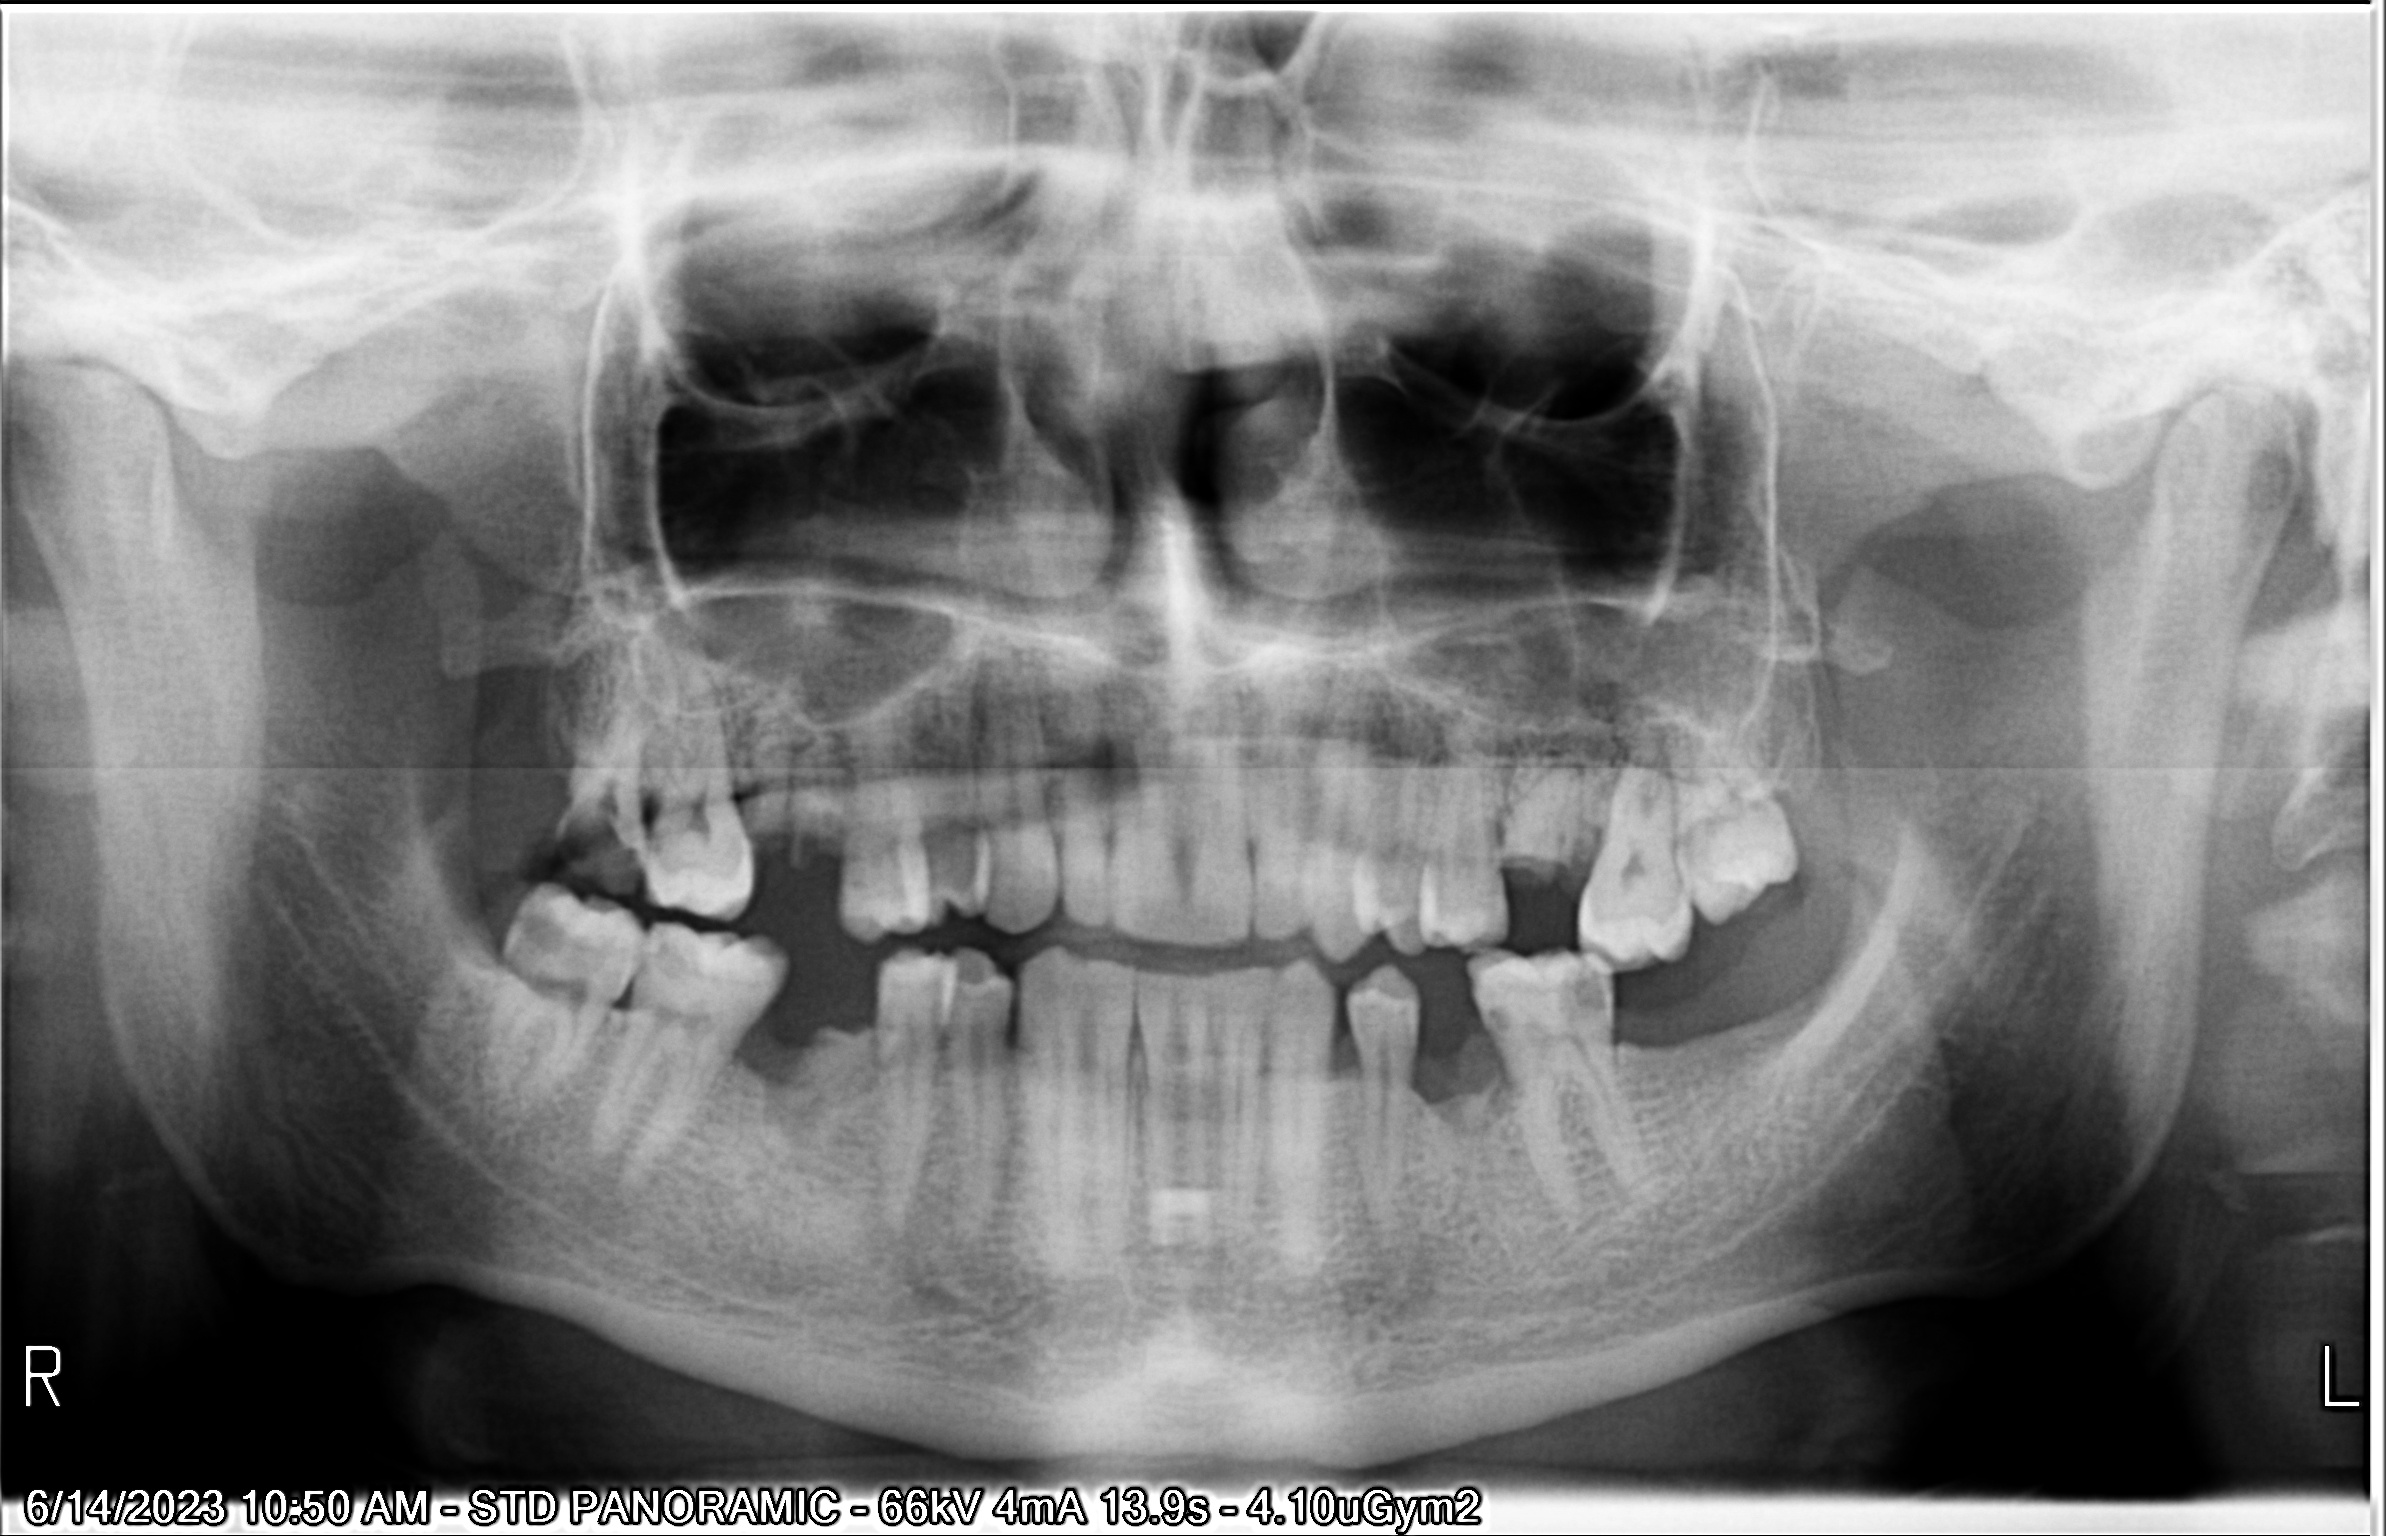CAR: (553, 791, 642, 894), (501, 878, 565, 972), (1567, 955, 1623, 1028), (661, 927, 694, 988), (1482, 1002, 1513, 1047)
ROT: (1499, 745, 1590, 875), (762, 1014, 859, 1122), (748, 743, 796, 856), (802, 738, 843, 851), (1449, 1038, 1494, 1143)
